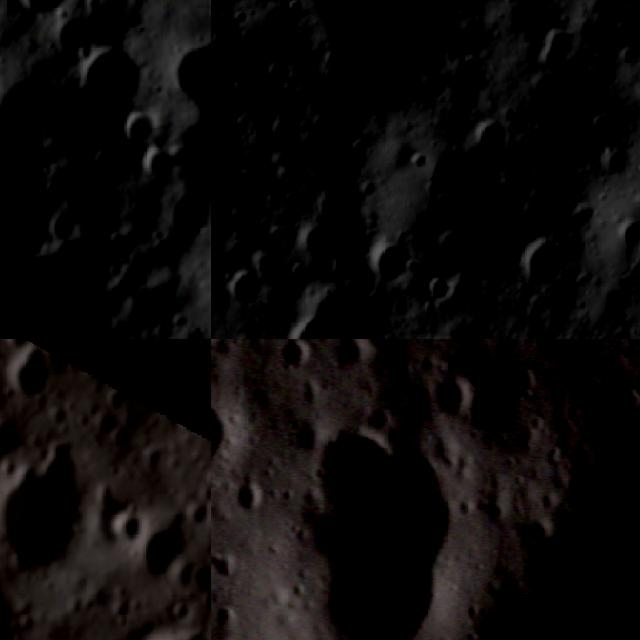crater: (0, 73, 182, 339), (294, 405, 490, 640), (211, 0, 520, 138), (414, 97, 525, 225), (0, 454, 90, 583), (529, 11, 593, 83), (130, 520, 192, 592), (353, 230, 417, 295), (511, 231, 572, 295), (3, 339, 55, 403), (430, 366, 481, 419), (248, 244, 298, 293), (592, 140, 640, 191), (211, 400, 238, 486), (103, 504, 150, 551), (418, 268, 462, 314), (220, 270, 266, 313), (143, 143, 178, 195), (116, 105, 153, 153), (8, 0, 79, 23), (45, 206, 82, 247), (278, 339, 323, 372), (170, 407, 203, 450), (336, 339, 379, 371), (136, 442, 172, 478), (611, 39, 640, 74), (615, 211, 640, 248), (104, 384, 132, 414), (106, 424, 135, 451), (134, 371, 160, 395), (629, 72, 640, 121), (524, 0, 567, 10), (601, 329, 640, 339)
